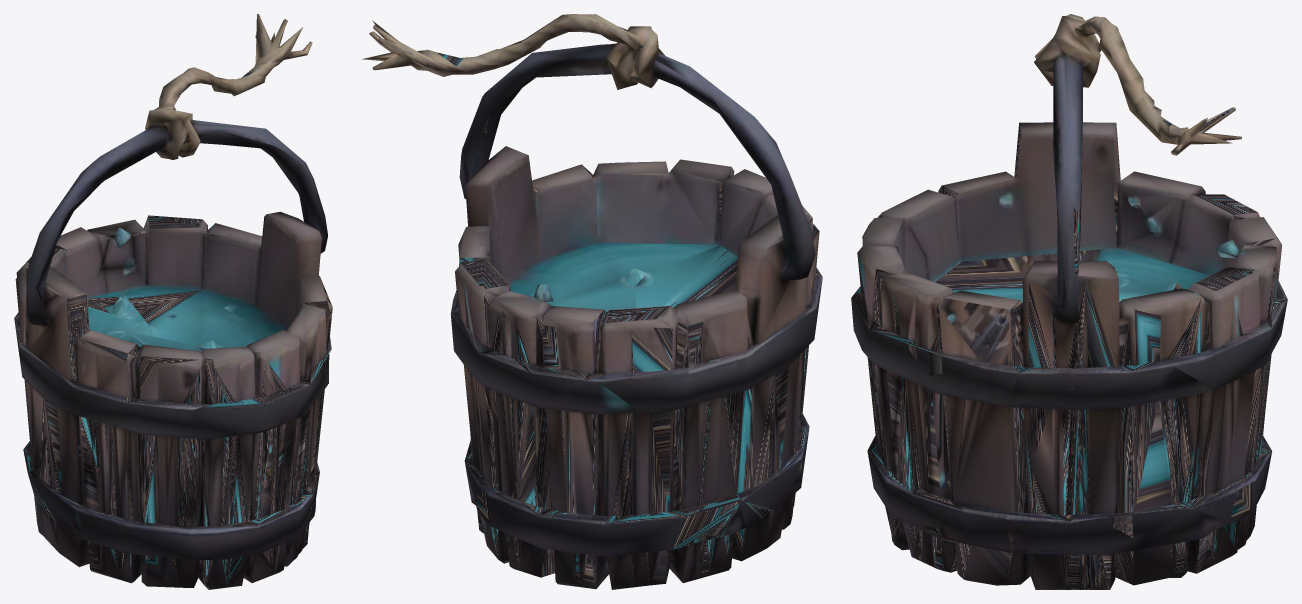
File: well-bucket-rope.glb
3 renders of one model, left to right at view 1: azimuth 30°, elevation 25°; view 2: azimuth 150°, elevation 25°; view 3: azimuth 270°, elevation 25°, orthographic. The views are drawn at different scales.
Visible parts, largest first — view 1: node_0; view 2: node_0; view 3: node_0.
Boxes of the visible parts, left/top/right/bottom form: node_0: left=14, top=14, right=332, bottom=589; node_0: left=361, top=14, right=822, bottom=589; node_0: left=851, top=14, right=1287, bottom=589.
Size of the model in its own units: 0.3976 by 0.4993 by 0.3761.
1 material, 1 textured.
